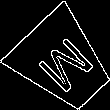M_SE: (29, 29, 98, 97)
